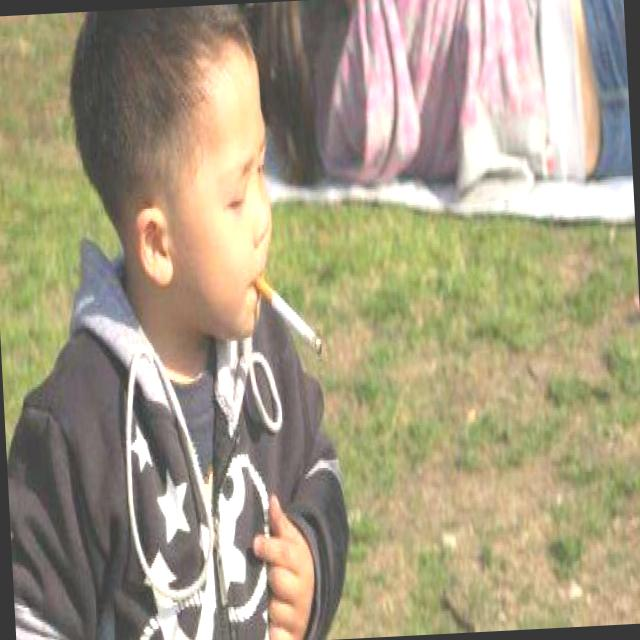cigarette: (248, 250, 340, 380)
